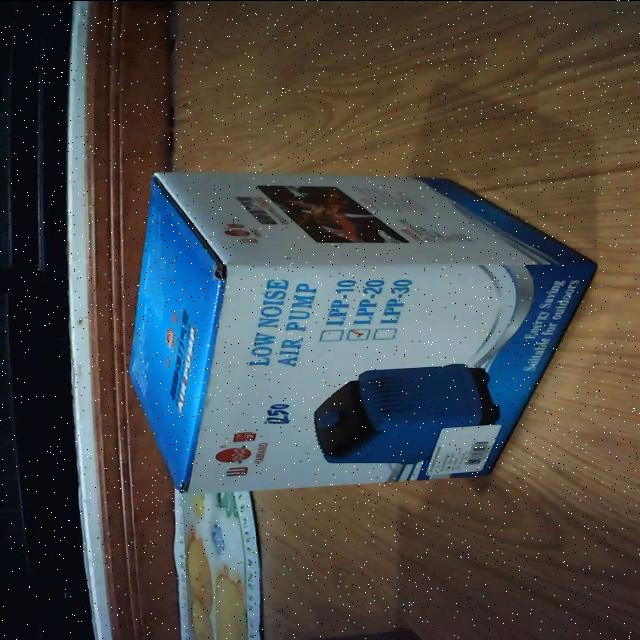YAMANO_LPP_20: (118, 170, 604, 500)
